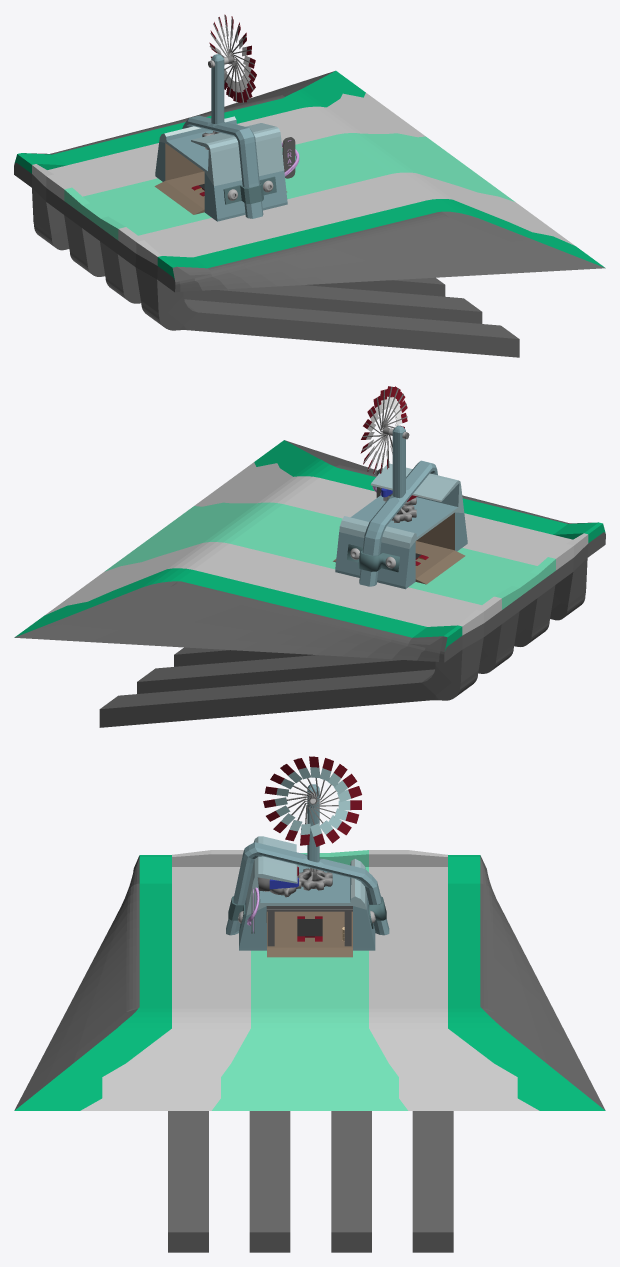
Rendered from garage.fbx.
The picture shows the model from 3 angles, top to bottom: view 1: azimuth 30°, elevation 25°; view 2: azimuth 150°, elevation 25°; view 3: azimuth 270°, elevation 25°; orthographic projection. The views are drawn at different scales.
Parts seen in each view (by area): view 1: ground, garage, pales, WindMillReincorcements; view 2: ground, garage, pales, WindMillReincorcements.001; view 3: ground, garage, pales.
Part boxes in pixels (x1=…): ground: x1=14, y1=70, x2=605, y2=357; garage: x1=154, y1=54, x2=287, y2=221; pales: x1=208, y1=14, x2=256, y2=102; WindMillReincorcements: x1=223, y1=176, x2=276, y2=204; ground: x1=14, y1=440, x2=605, y2=727; garage: x1=333, y1=425, x2=467, y2=589; pales: x1=360, y1=386, x2=409, y2=474; WindMillReincorcements.001: x1=347, y1=544, x2=399, y2=572; ground: x1=14, y1=850, x2=605, y2=1252; garage: x1=226, y1=784, x2=389, y2=957; pales: x1=263, y1=756, x2=361, y2=846.
Size of the model in its own units: 209 by 257 by 181.
